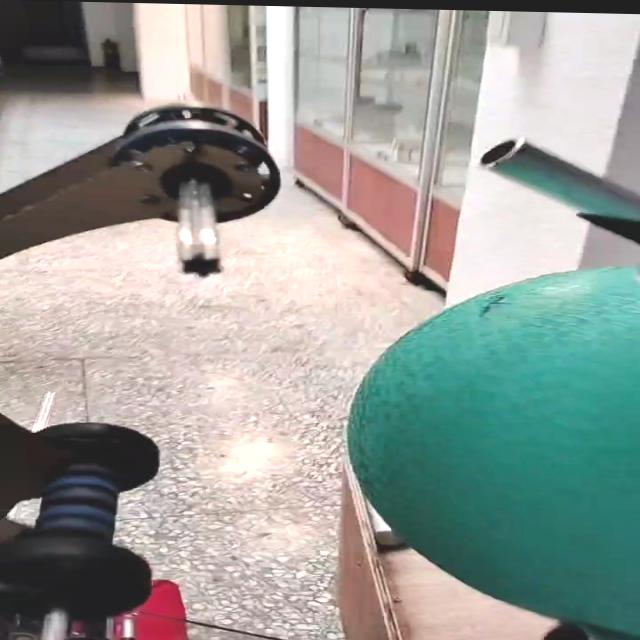ALGAE: (344, 259, 640, 640)
